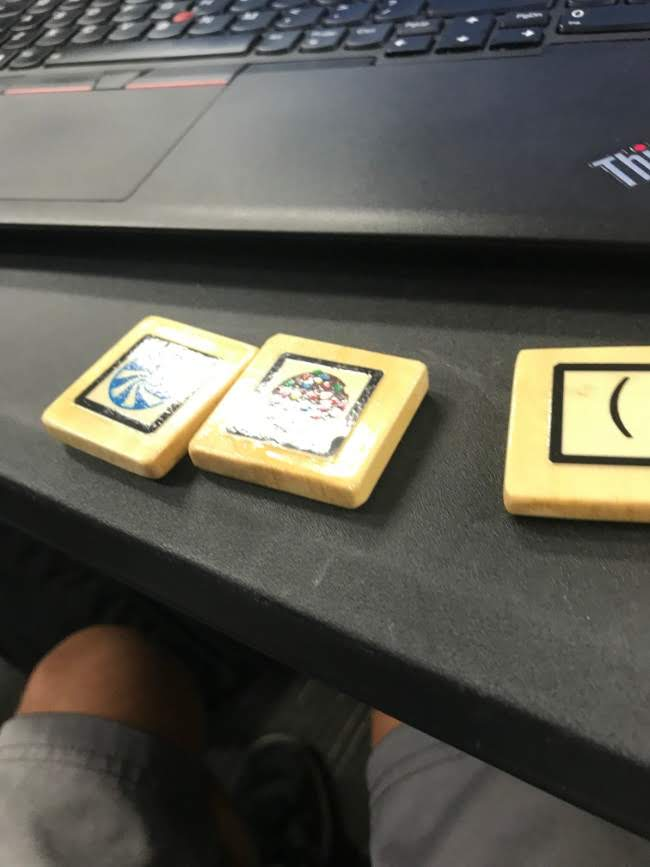cookie: (224, 351, 384, 456)
